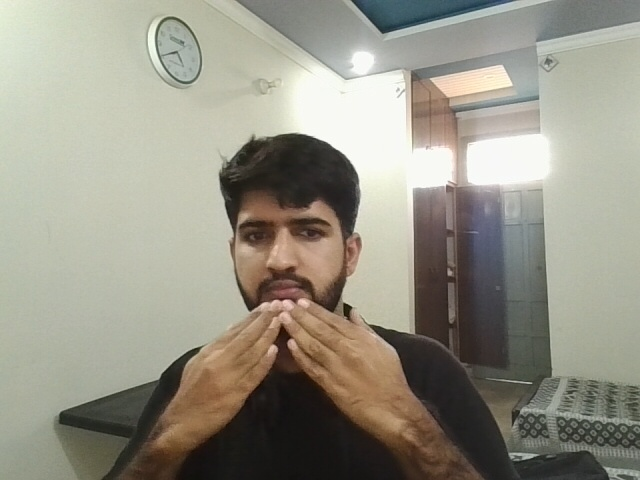Thanks: (127, 293, 491, 447)
